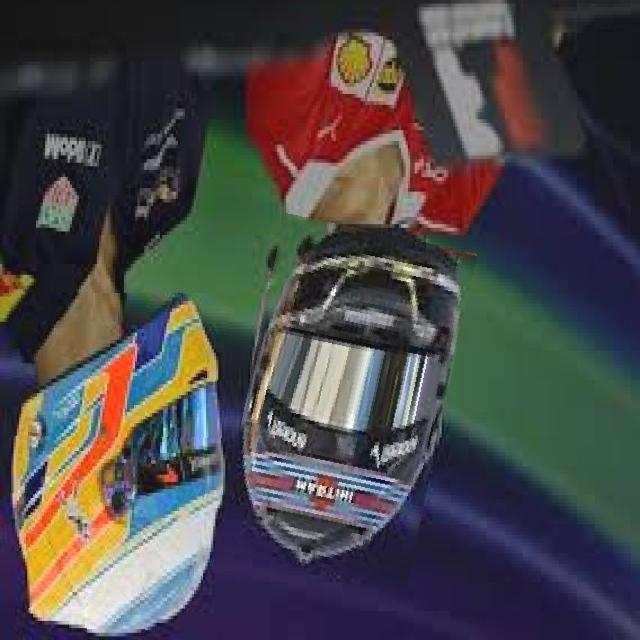helmet: (230, 221, 461, 581), (9, 292, 226, 639)
